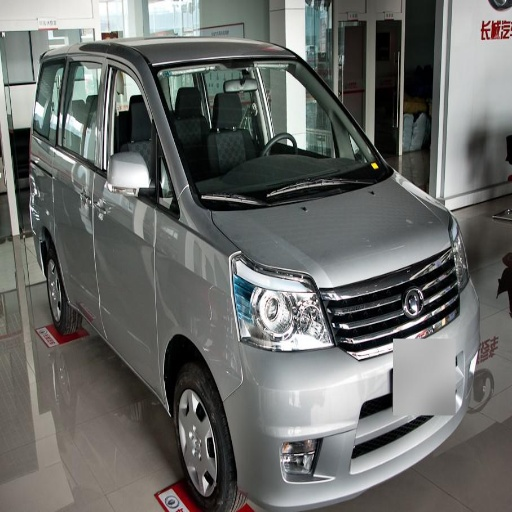front_bumper: (214, 311, 476, 509)
front_right_door: (89, 59, 178, 374)
front_right_light: (233, 255, 331, 351)
